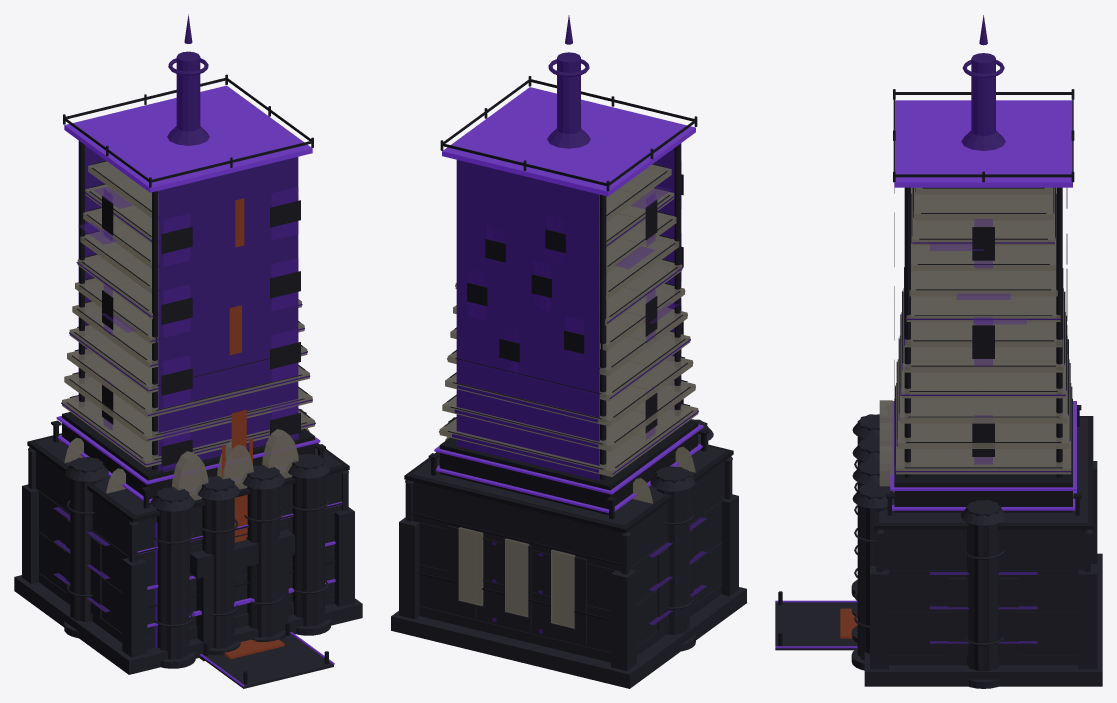
Rendered from knowledgebase-ext.glb.
3 renders of one model, left to right at view 1: azimuth 30°, elevation 25°; view 2: azimuth 150°, elevation 25°; view 3: azimuth 270°, elevation 25°, orthographic. The views are drawn at different scales.
Visible parts, largest first — view 1: stone_base_body, crown_platform, emissive_panel_front_10, emissive_panel_front_06, stone_plinth, stone_column_front_0, emissive_panel_front_04, stone_column_front_3, stone_column_front_2, emissive_panel_front_01, emissive_panel_front_07, stone_column_front_1 (+59 smaller); view 2: stone_base_body, crown_platform, stone_plinth, transition_zone, emissive_panel_back_10, emissive_panel_back_08, emissive_panel_back_04, emissive_panel_back_06, emissive_panel_back_02, emissive_panel_back_00, stone_column_side_0, data_floor_00 (+33 smaller); view 3: stone_base_body, crown_platform, transition_zone, stone_plinth, stone_column_side_1, data_floor_02, data_floor_00, data_floor_03, data_floor_01, data_floor_04, data_floor_07, data_floor_06 (+26 smaller).
Boxes of the visible parts, x1,y1,x2,y2 form: stone_base_body: (34,437,341,649); crown_platform: (64,85,312,192); emissive_panel_front_10: (158,157,298,234); emissive_panel_front_06: (158,248,298,329); stone_plinth: (14,575,362,674); stone_column_front_0: (156,487,189,659); emissive_panel_front_04: (158,295,298,373); stone_column_front_3: (292,453,324,626); stone_column_front_2: (247,465,279,637); emissive_panel_front_01: (158,366,298,447); emissive_panel_front_07: (158,225,298,305); stone_column_front_1: (202,476,234,648); stone_base_body: (412,446,726,662); crown_platform: (442,87,695,196); stone_plinth: (391,587,746,688); transition_zone: (439,420,698,514); emissive_panel_back_10: (456,160,599,239); emissive_panel_back_08: (456,205,599,287); emissive_panel_back_04: (456,301,599,384); emissive_panel_back_06: (456,253,599,335); emissive_panel_back_02: (456,349,599,432); emissive_panel_back_00: (456,398,599,480); stone_column_side_0: (655,466,689,634); data_floor_00: (439,404,698,476); stone_base_body: (879,417,1087,665); crown_platform: (894,100,1072,187); transition_zone: (894,398,1072,512); stone_plinth: (864,553,1102,686); stone_column_side_1: (966,500,1001,671); data_floor_02: (899,336,1067,423); data_floor_00: (896,383,1071,474); data_floor_03: (901,312,1065,398); data_floor_01: (897,359,1069,448); data_floor_04: (903,288,1063,372); data_floor_07: (909,271,1057,296); data_floor_06: (906,296,1060,321).
Size of the model in its own units: 5.38 by 12.59 by 6.05.
